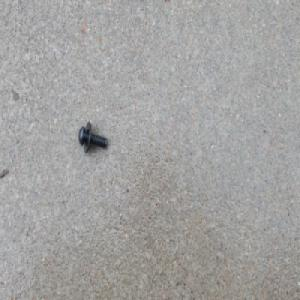BoltWasher: (78, 120, 107, 154)
